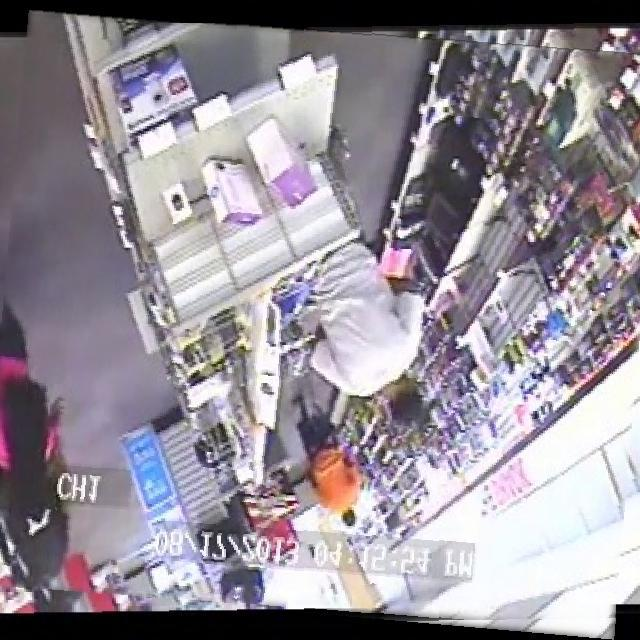Normal: (0, 23, 640, 627)
